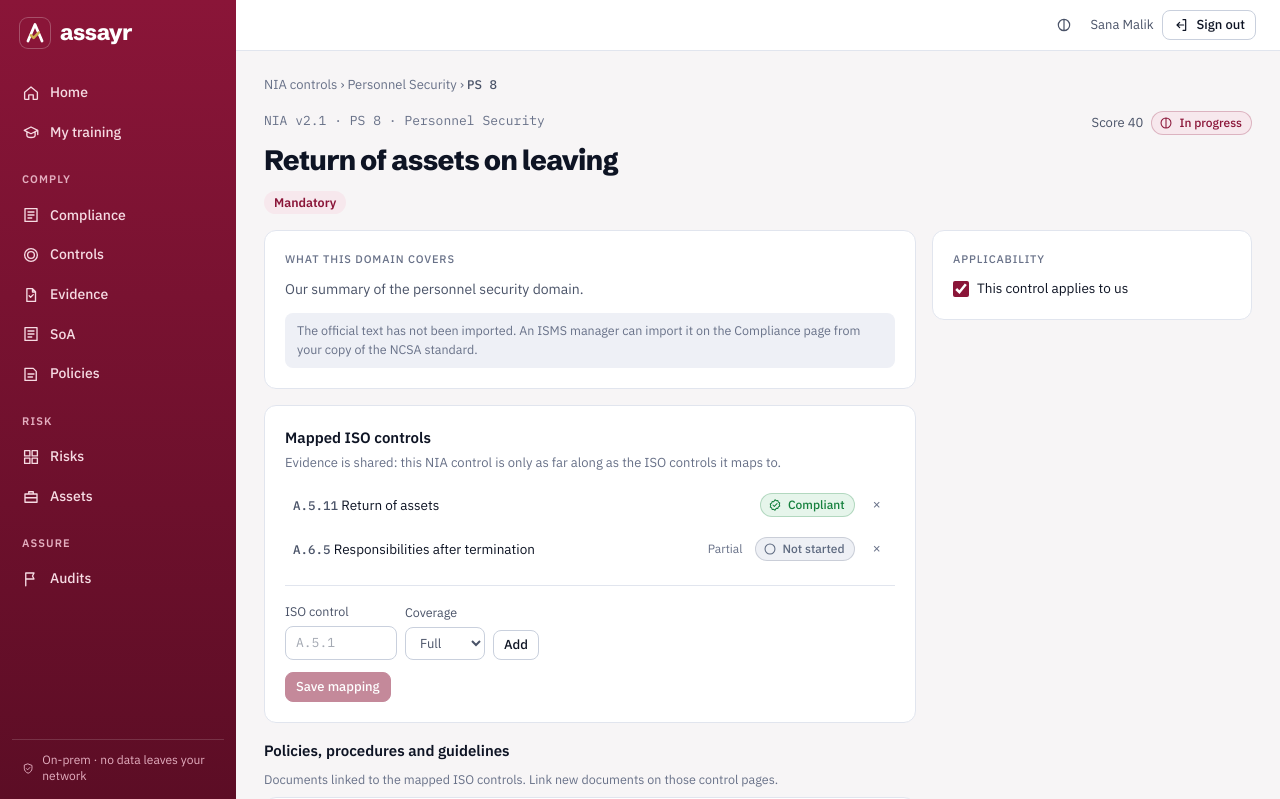
Test: marking a control not applicable needs a reason
Click the checkbox labelled "This control applies to us" at (961, 289), box [953,281,969,297]
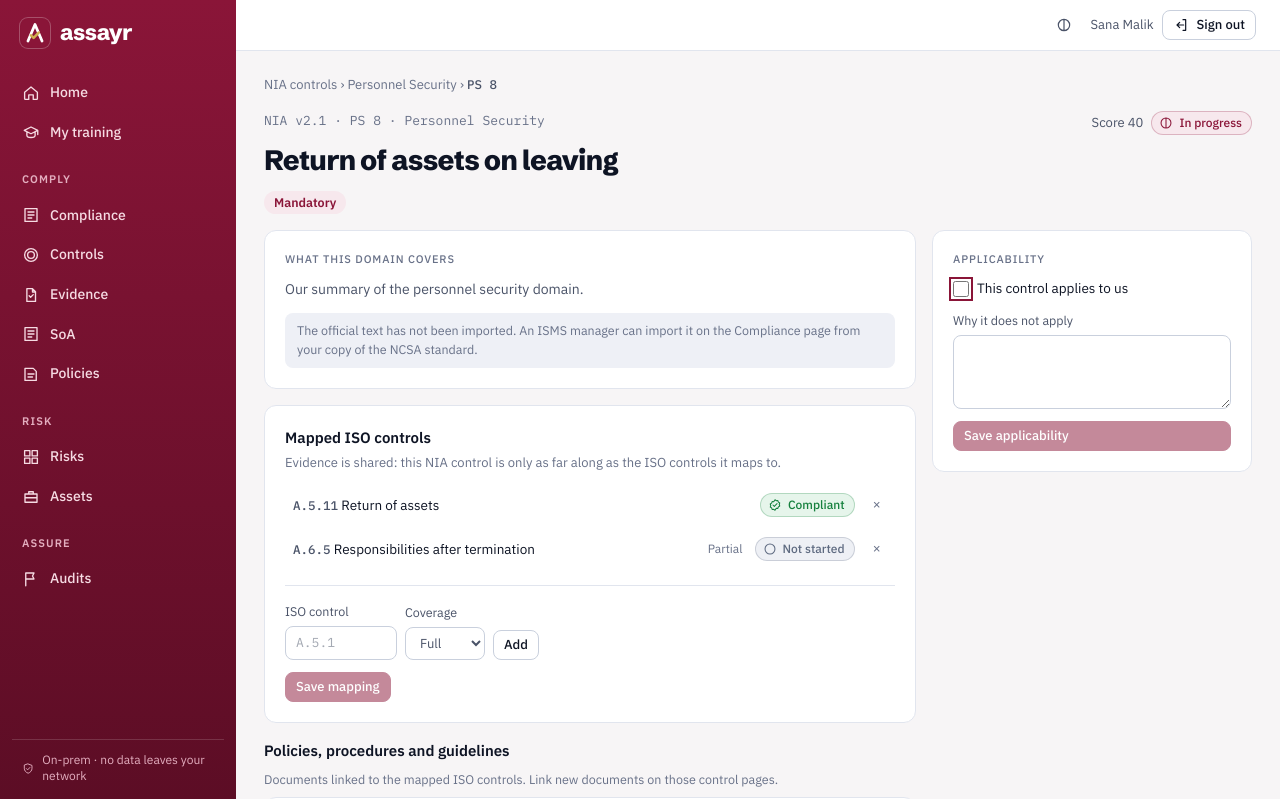
Now the button "Save applicability" is disabled, box [953,421,1231,451]
Type "No such systems" into the text box labelled "Why it does not apply" at (1092, 372), box [953,334,1231,409]
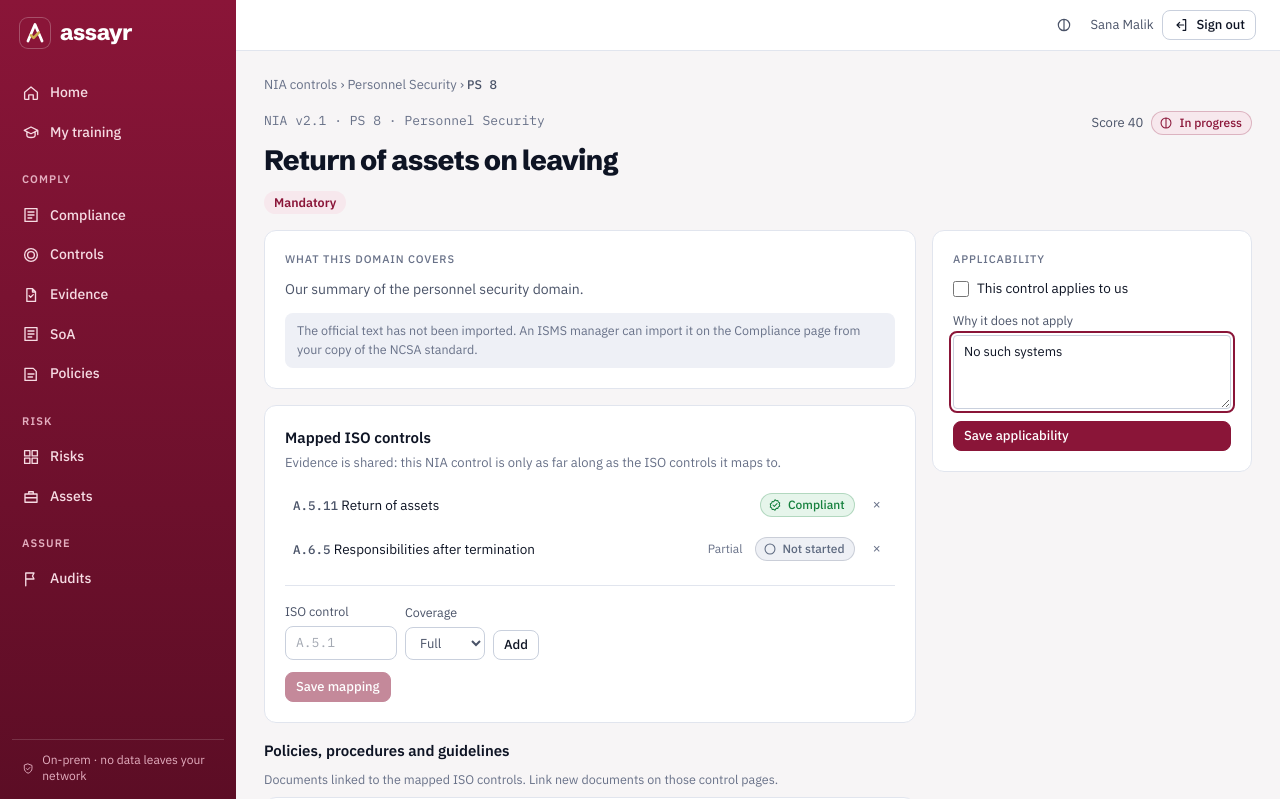
Click the button "Save applicability" at (1016, 435), box [953,421,1231,451]
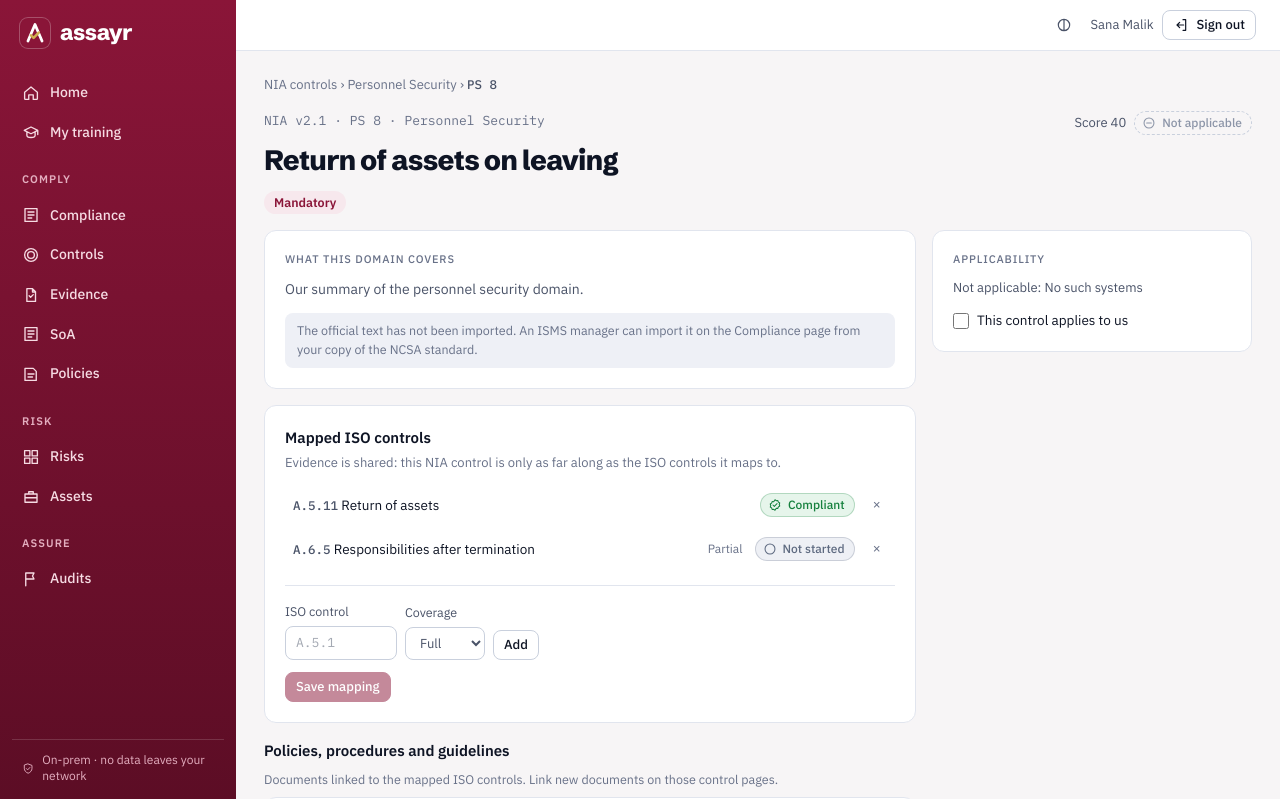
Now the text "Not applicable: No such systems" is shown, box [953,279,1143,296]
